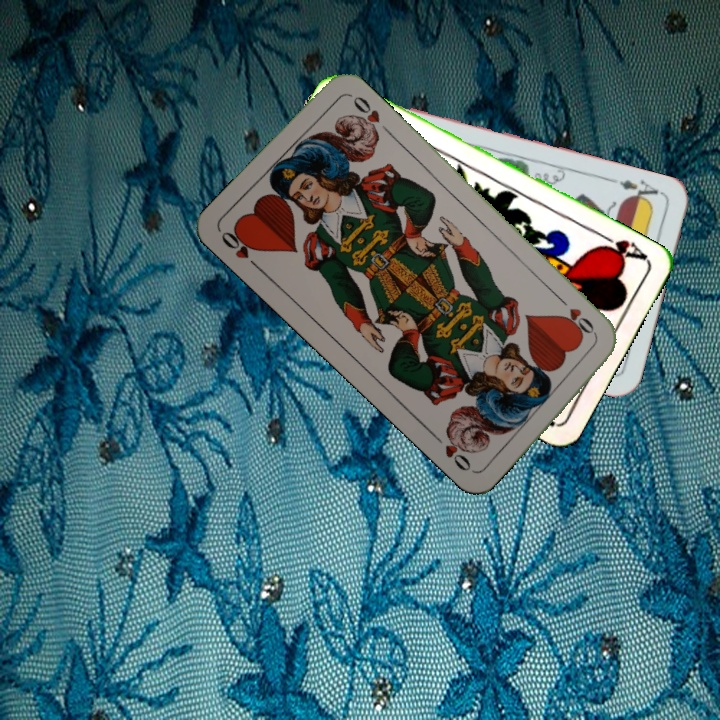EA: (615, 176, 665, 207)
HA: (593, 229, 650, 265)
HO: (217, 224, 263, 273), (555, 293, 600, 341)
